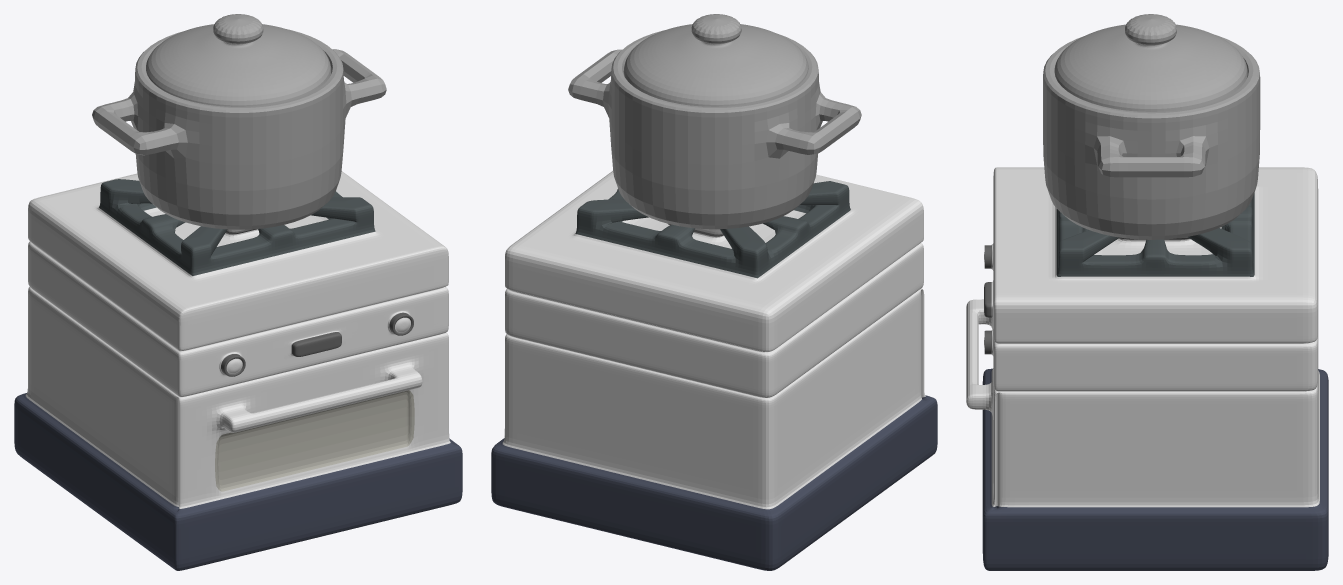
File: Gas_ragne_pot(ani).fbx
3 renders of one model, left to right at view 1: azimuth 30°, elevation 25°; view 2: azimuth 150°, elevation 25°; view 3: azimuth 270°, elevation 25°, orthographic. The views are drawn at different scales.
Visible parts, largest first — view 1: 큐브.005, 원형.010, 원형.011; view 2: 큐브.005, 원형.010, 원형.011; view 3: 큐브.005, 원형.010, 원형.011.
Boxes of the visible parts, x1,y1,x2,y2 form: 큐브.005: (14, 171, 462, 570); 원형.010: (92, 29, 386, 229); 원형.011: (146, 14, 331, 106); 큐브.005: (491, 171, 937, 570); 원형.010: (568, 30, 861, 229); 원형.011: (623, 14, 808, 106); 큐브.005: (966, 167, 1328, 570); 원형.010: (1043, 35, 1260, 239); 원형.011: (1054, 14, 1247, 111).
Bounding box in the file's own units: 315 × 482 × 330.
